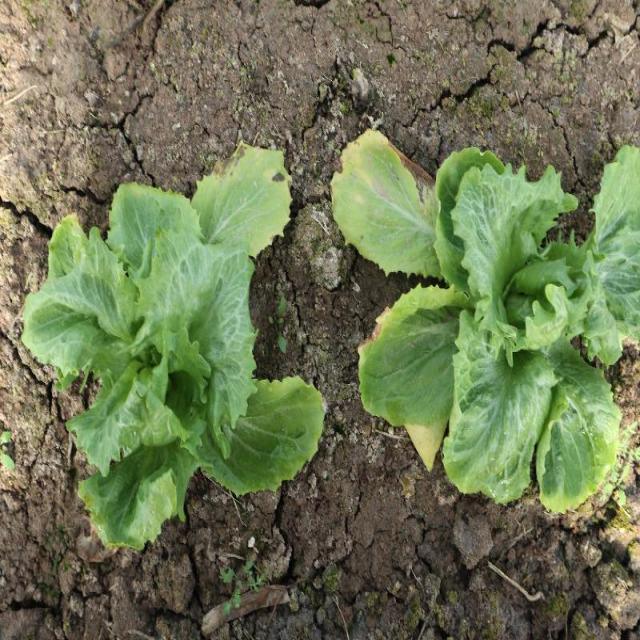crop: (22, 143, 328, 552), (332, 128, 640, 516)
